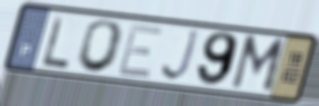9: (196, 30, 243, 90)
E: (115, 23, 166, 81)
J: (159, 28, 203, 84)
L: (40, 13, 72, 71)
M: (228, 33, 289, 97)
O: (74, 18, 127, 75)
